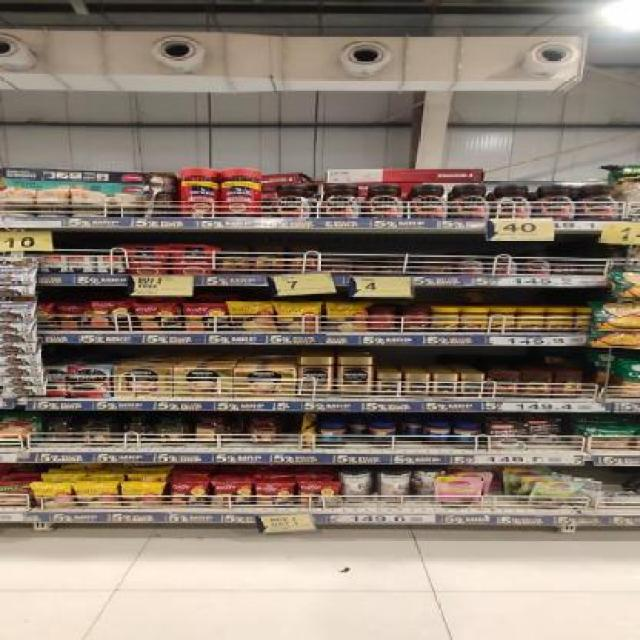Coffee: (297, 357, 335, 398), (318, 184, 362, 218), (336, 358, 373, 398), (580, 185, 622, 220), (534, 184, 577, 218), (492, 186, 534, 220), (448, 184, 489, 218), (408, 184, 448, 218), (365, 184, 404, 218), (272, 185, 312, 218), (69, 367, 108, 396), (489, 253, 517, 275), (456, 252, 482, 273), (552, 258, 582, 276), (461, 374, 484, 397), (525, 252, 549, 274), (379, 373, 401, 396), (406, 374, 428, 397), (435, 374, 456, 397), (583, 260, 611, 276)
